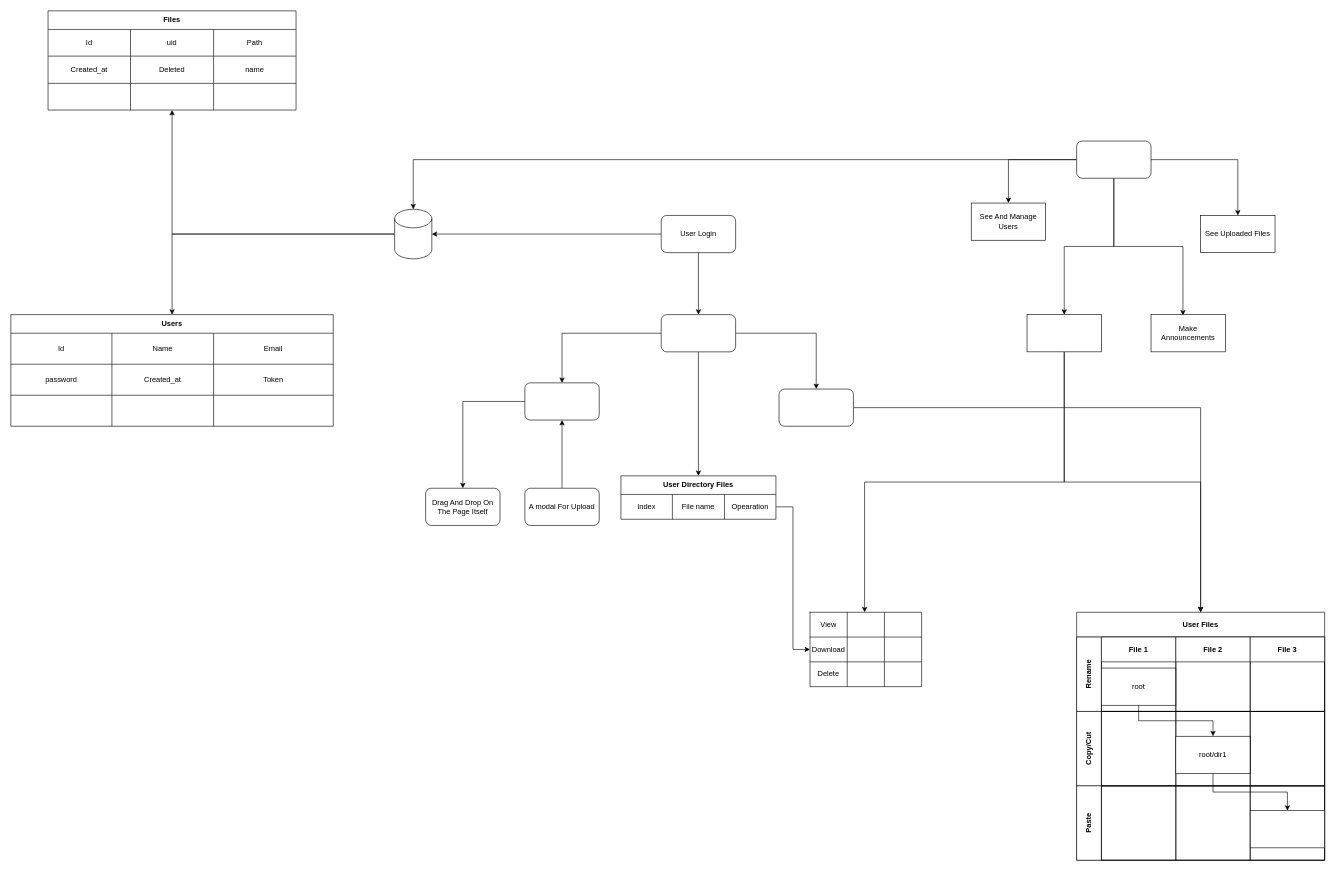
The diagram is 1335 pixels wide and 871 high, and some of its shapes have lost their labels. The shapes that lost their labels are listed below. From the top down, each one's centre as x and y in pixels, then its label:
At pixel 1113 159: "Admin Login".
At pixel 413 234: "DB".
At pixel 698 333: "Home Page".
At pixel 1063 333: "Make Shared Files".
At pixel 561 401: "File Upload".
At pixel 815 407: "Shared Files".
At pixel 1287 829: "root/dir2".
